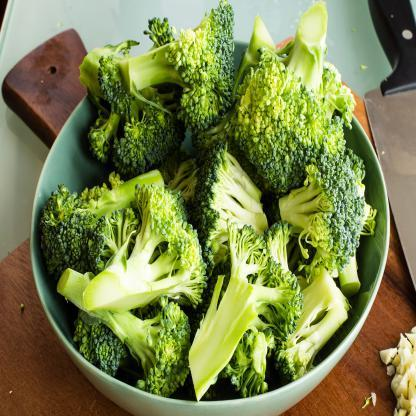broccoli: (37, 0, 376, 406)
